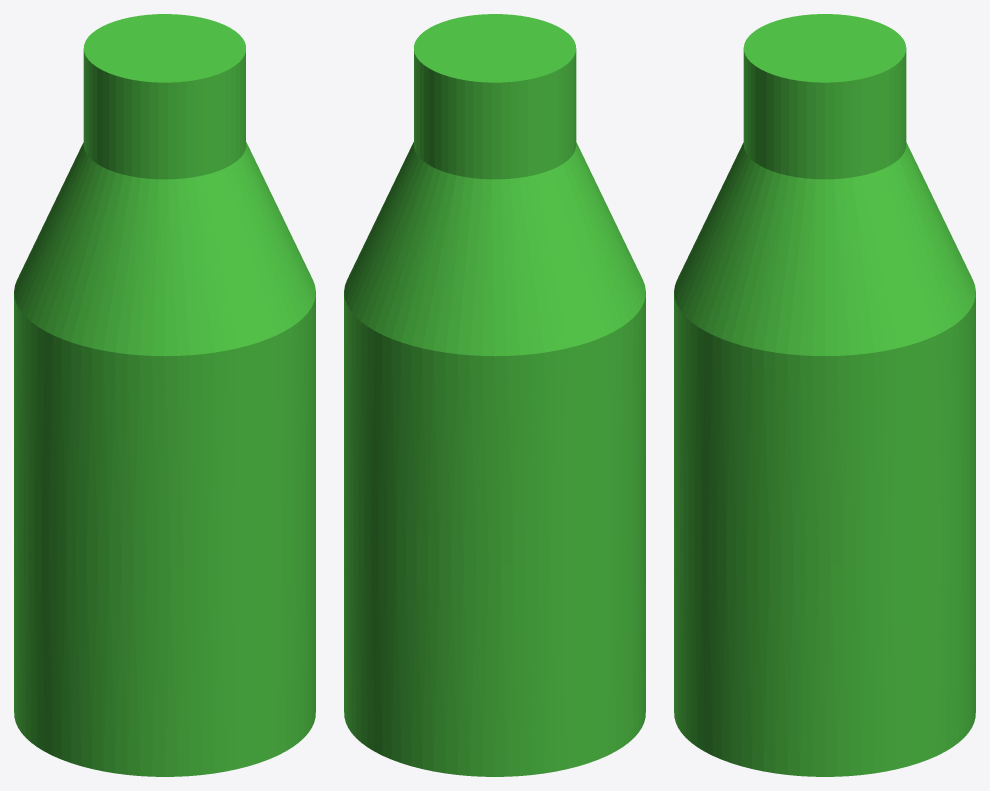
Rendered from green_tea.dae.
3 renders of one model, left to right at view 1: azimuth 30°, elevation 25°; view 2: azimuth 150°, elevation 25°; view 3: azimuth 270°, elevation 25°, orthographic.
Visible parts, largest first — view 1: Green_Tea; view 2: Green_Tea; view 3: Green_Tea.
Part boxes in pixels (<box>): Green_Tea: <box>14,14,315,776</box>; Green_Tea: <box>344,14,645,776</box>; Green_Tea: <box>674,14,975,776</box>.
Bounding box in the file's own units: 0.065 × 0.065 × 0.158.
